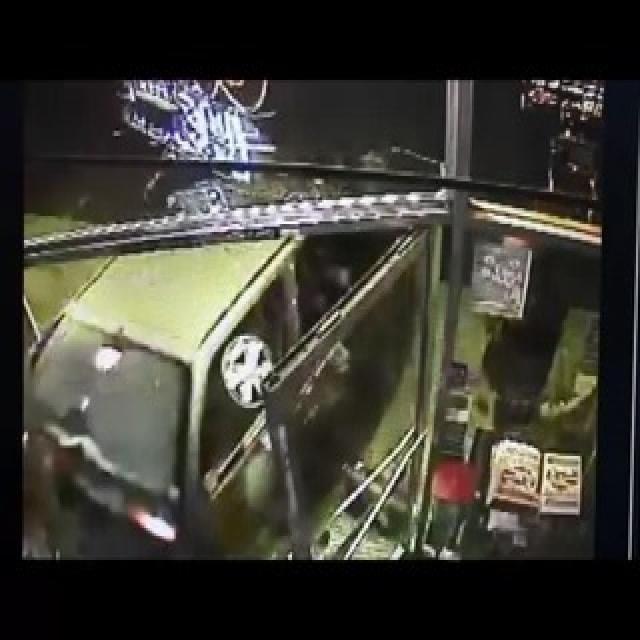burglary: (24, 202, 458, 558)
